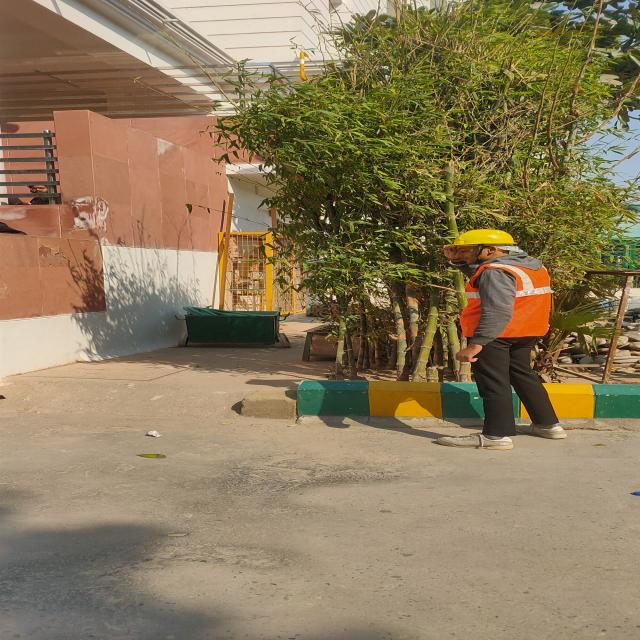safe: (439, 229, 565, 449)
unsafe: (23, 186, 49, 204)
